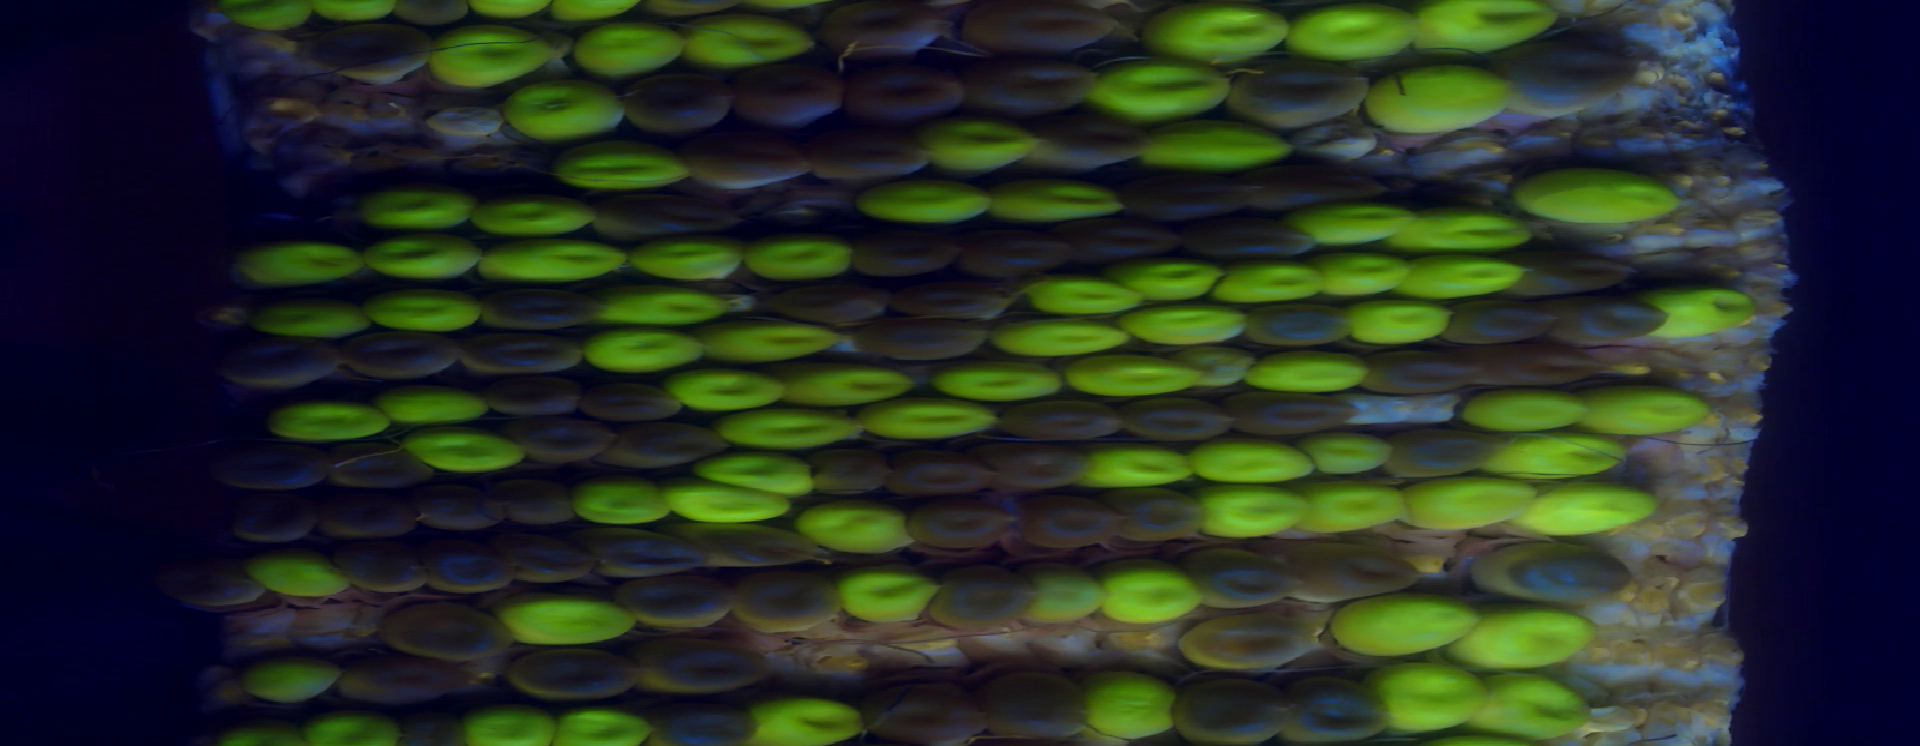fluorescent: (1515, 159, 1684, 236), (1362, 60, 1505, 136), (1142, 1, 1292, 72), (1326, 586, 1477, 653), (1091, 56, 1229, 125), (1409, 1, 1559, 60), (1135, 121, 1294, 176), (1466, 605, 1600, 669), (1287, 1, 1417, 65), (1526, 479, 1656, 541), (364, 222, 493, 283), (500, 593, 636, 649), (684, 20, 811, 78), (1584, 386, 1716, 442), (1063, 349, 1202, 401), (429, 29, 552, 87), (776, 360, 912, 412), (557, 145, 697, 194), (1483, 674, 1589, 737), (509, 80, 632, 135), (500, 235, 622, 290), (1078, 668, 1173, 737), (364, 287, 484, 342), (711, 405, 866, 448), (1402, 205, 1531, 256), (1380, 665, 1473, 736), (991, 179, 1124, 228), (1659, 281, 1756, 348), (1245, 348, 1378, 397), (1404, 250, 1529, 301), (797, 501, 921, 552), (1191, 439, 1311, 490), (1404, 480, 1524, 532), (571, 24, 684, 78), (839, 566, 936, 628), (1455, 387, 1581, 435), (983, 314, 1128, 355), (1213, 254, 1325, 307), (263, 394, 398, 439), (1125, 305, 1255, 350), (1102, 562, 1190, 628), (696, 448, 811, 499), (242, 243, 370, 288), (360, 187, 478, 236), (929, 118, 1033, 173), (1490, 436, 1621, 479), (1193, 488, 1308, 535), (860, 184, 991, 225), (580, 328, 704, 372), (408, 431, 528, 477), (715, 323, 845, 365), (753, 701, 872, 746), (631, 238, 749, 283), (669, 484, 784, 530), (1298, 486, 1409, 534), (593, 290, 731, 328), (245, 301, 370, 343), (383, 386, 495, 432), (569, 477, 677, 524), (945, 356, 1067, 398), (738, 236, 860, 277), (1298, 426, 1397, 474), (666, 369, 778, 410), (1082, 450, 1194, 491), (1026, 565, 1104, 624), (1356, 300, 1456, 345), (864, 401, 991, 435), (1029, 277, 1140, 315), (250, 556, 350, 598), (1321, 254, 1404, 304), (1298, 203, 1404, 243), (253, 652, 338, 701), (1138, 257, 1228, 301), (233, 1, 320, 47), (480, 198, 590, 232), (452, 710, 549, 746), (300, 715, 407, 746), (552, 710, 643, 746), (321, 1, 404, 24), (475, 1, 557, 24), (550, 1, 650, 20), (224, 724, 294, 746)
nonfluorescent: (1463, 535, 1643, 604), (1509, 36, 1633, 119), (639, 625, 770, 701), (964, 657, 1084, 739), (1229, 55, 1358, 131), (371, 590, 513, 657), (948, 1, 1122, 55), (1174, 669, 1296, 744), (857, 673, 980, 746), (1167, 611, 1319, 669), (1292, 537, 1433, 598), (960, 56, 1102, 115), (820, 7, 954, 69), (732, 565, 846, 635), (1282, 668, 1393, 739), (313, 21, 437, 85), (927, 559, 1036, 628), (615, 573, 733, 635), (1029, 115, 1147, 176), (830, 70, 953, 127), (691, 136, 820, 190), (622, 73, 733, 136), (1247, 156, 1389, 205), (508, 646, 634, 701), (737, 59, 841, 124), (347, 646, 475, 697), (888, 277, 1022, 326), (339, 334, 464, 387), (1392, 424, 1501, 483), (220, 332, 336, 387), (961, 217, 1071, 274), (580, 524, 700, 577), (885, 441, 994, 499), (1106, 488, 1205, 550), (596, 195, 744, 236), (160, 548, 260, 608), (1472, 345, 1596, 393), (1119, 176, 1243, 224), (691, 526, 816, 572), (208, 442, 336, 488), (419, 532, 517, 590), (1233, 401, 1363, 445), (1116, 397, 1232, 446), (616, 419, 722, 472), (1562, 294, 1671, 345), (811, 135, 920, 186), (644, 695, 758, 742), (853, 224, 967, 272), (1075, 218, 1168, 276), (481, 283, 606, 326), (1184, 217, 1316, 257), (470, 328, 582, 376), (1520, 252, 1640, 296), (1191, 552, 1296, 603), (992, 446, 1089, 500), (999, 403, 1120, 446), (230, 486, 322, 541), (419, 467, 504, 526), (902, 507, 1022, 549), (1022, 494, 1113, 549), (806, 443, 895, 499), (322, 488, 422, 537), (858, 325, 991, 360), (504, 467, 584, 526), (333, 535, 430, 583), (1367, 349, 1471, 393), (481, 372, 578, 419), (775, 284, 887, 322), (577, 379, 678, 419), (512, 537, 591, 587), (1453, 301, 1550, 339), (337, 445, 422, 483), (523, 423, 613, 457), (396, 710, 467, 746)
